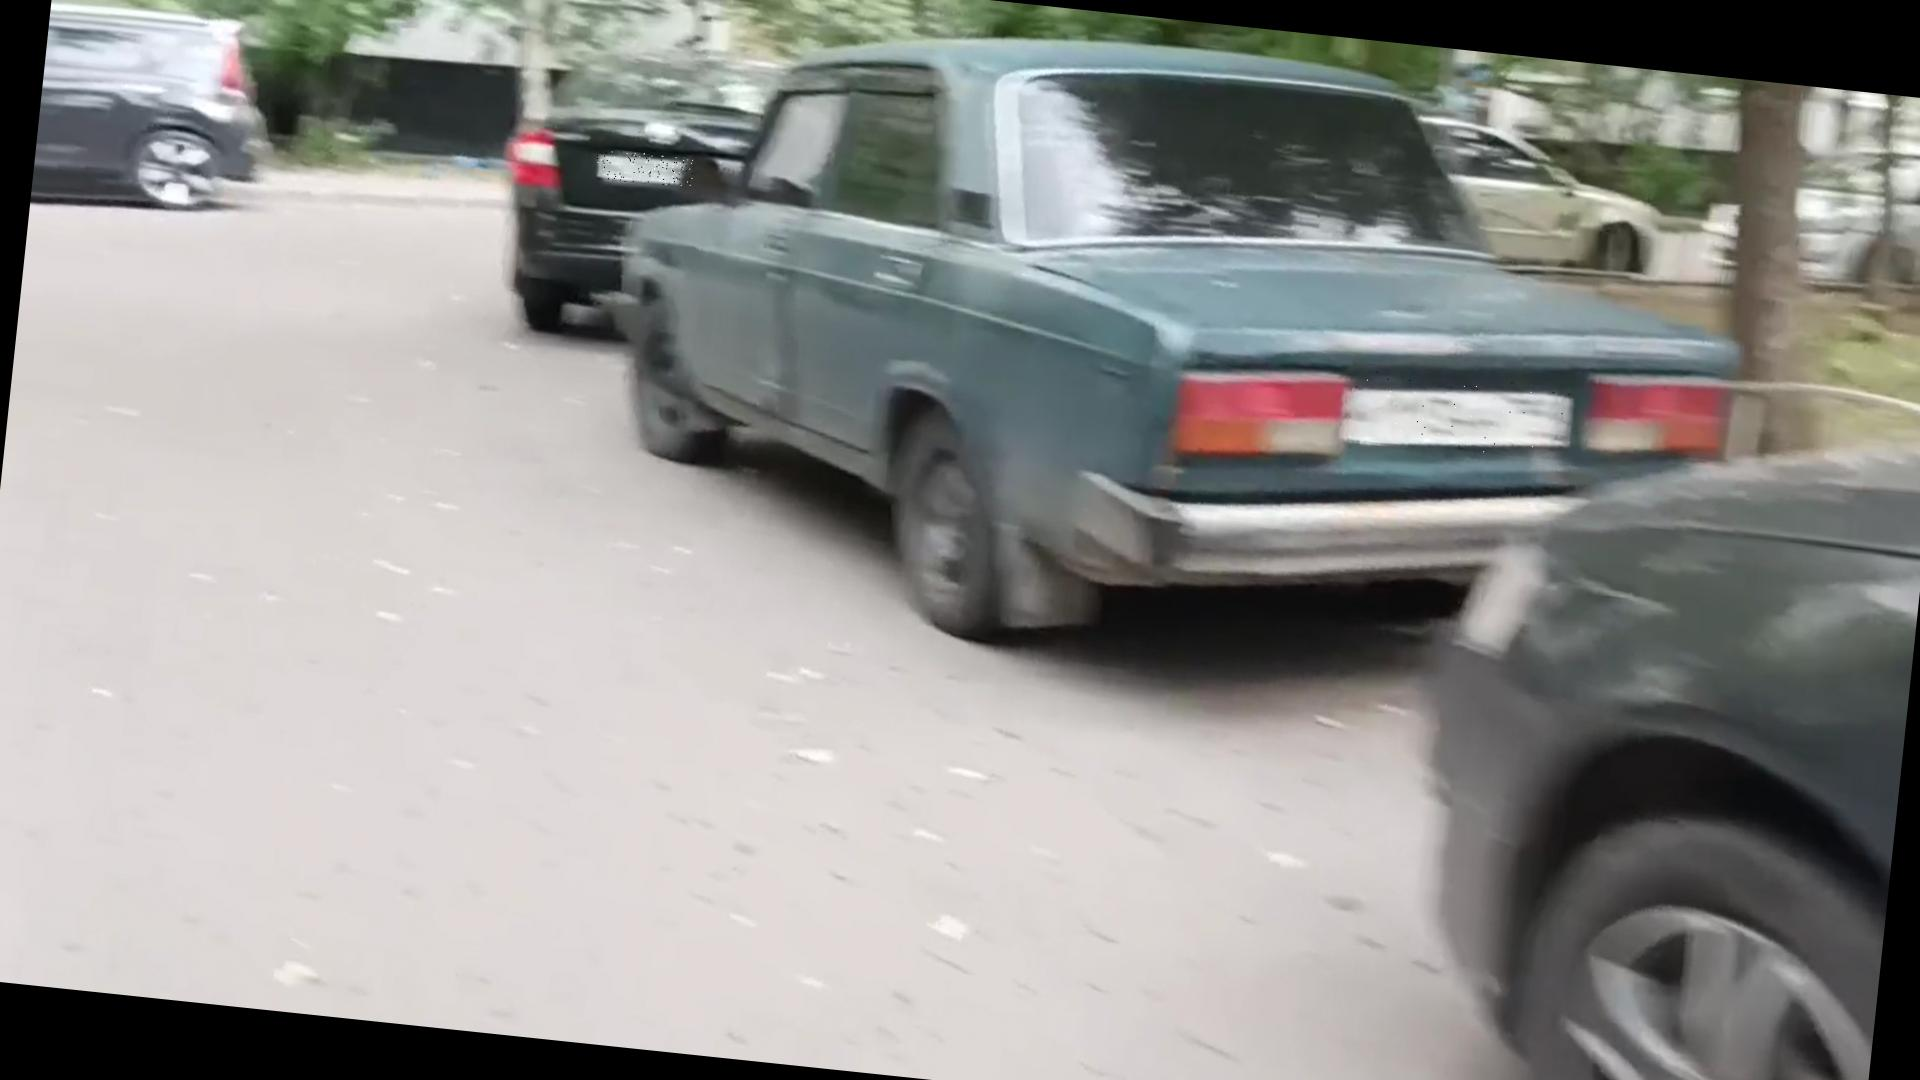plate: (1348, 367, 1582, 466), (595, 150, 696, 191)
